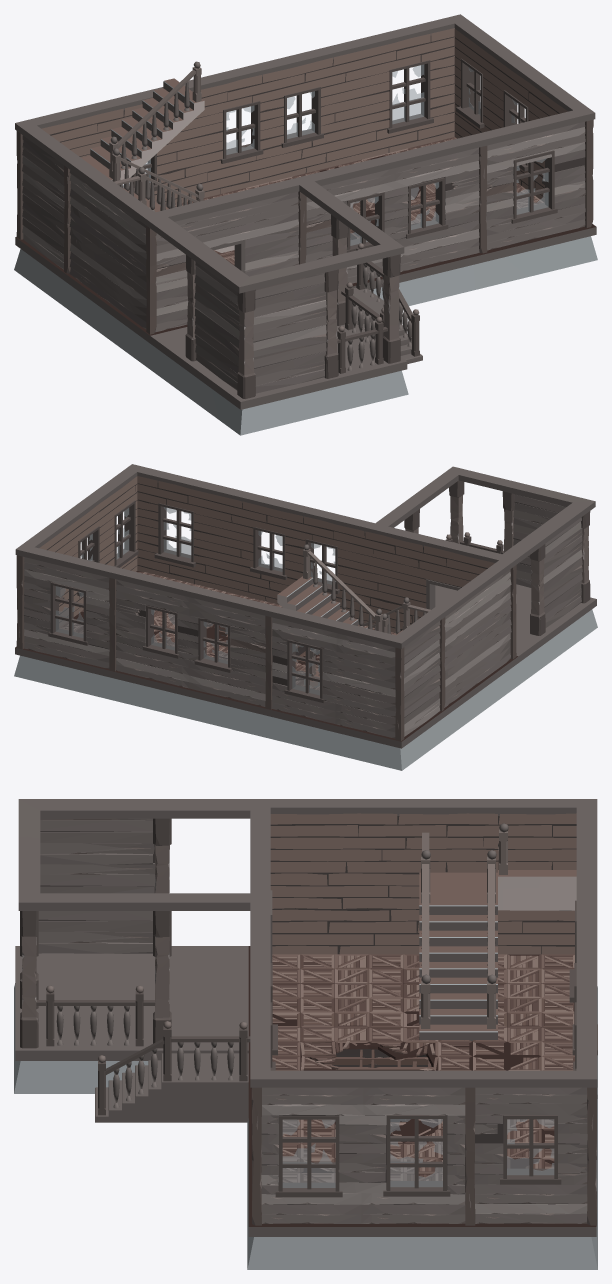
The model's file is guest_house_1_001.glb.
3 renders of one model, top to bottom at view 1: azimuth 30°, elevation 25°; view 2: azimuth 150°, elevation 25°; view 3: azimuth 270°, elevation 25°, orthographic. The views are drawn at different scales.
Visible parts, largest first — view 1: guest_house_1_001; view 2: guest_house_1_001; view 3: guest_house_1_001.
Boxes of the visible parts, x1,y1,x2,y2 form: guest_house_1_001: (14, 14, 597, 435); guest_house_1_001: (14, 464, 597, 770); guest_house_1_001: (14, 799, 597, 1269).
Bounding box in the file's own units: 14.9 × 6.33 × 13.04.
Materials: 2 (2 with a texture image).
